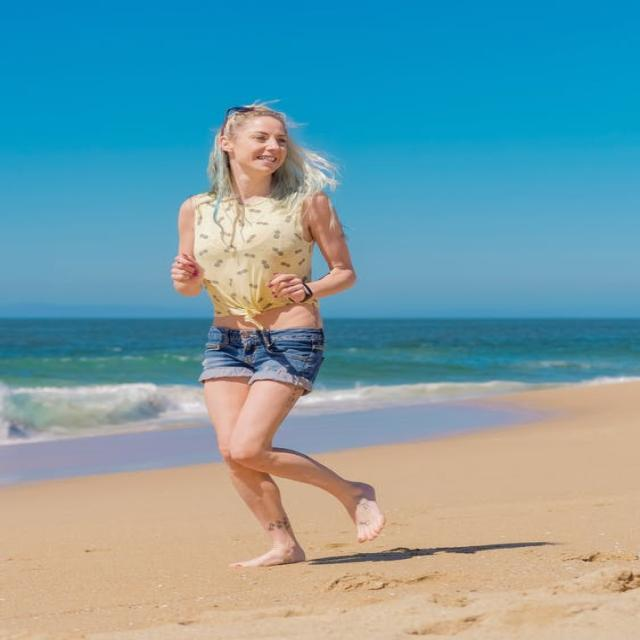running: (164, 102, 390, 572)
